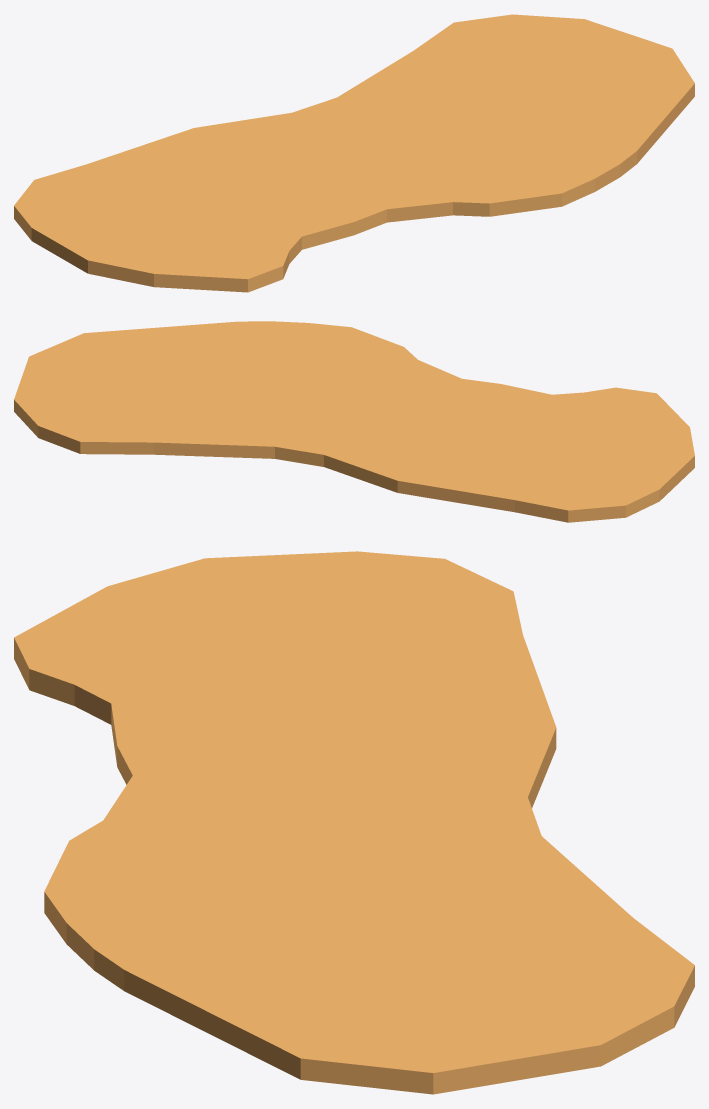
The model's file is Sand 16.FBX.
3 renders of one model, top to bottom at view 1: azimuth 30°, elevation 25°; view 2: azimuth 150°, elevation 25°; view 3: azimuth 270°, elevation 25°, orthographic. The views are drawn at different scales.
Visible parts, largest first — view 1: Plane001; view 2: Plane001; view 3: Plane001.
Boxes of the visible parts, bbox=[...] form: Plane001: bbox=[14, 14, 694, 292]; Plane001: bbox=[14, 321, 694, 522]; Plane001: bbox=[14, 551, 694, 1094].
Size of the model in its own units: 114 by 2.18 by 62.96.
